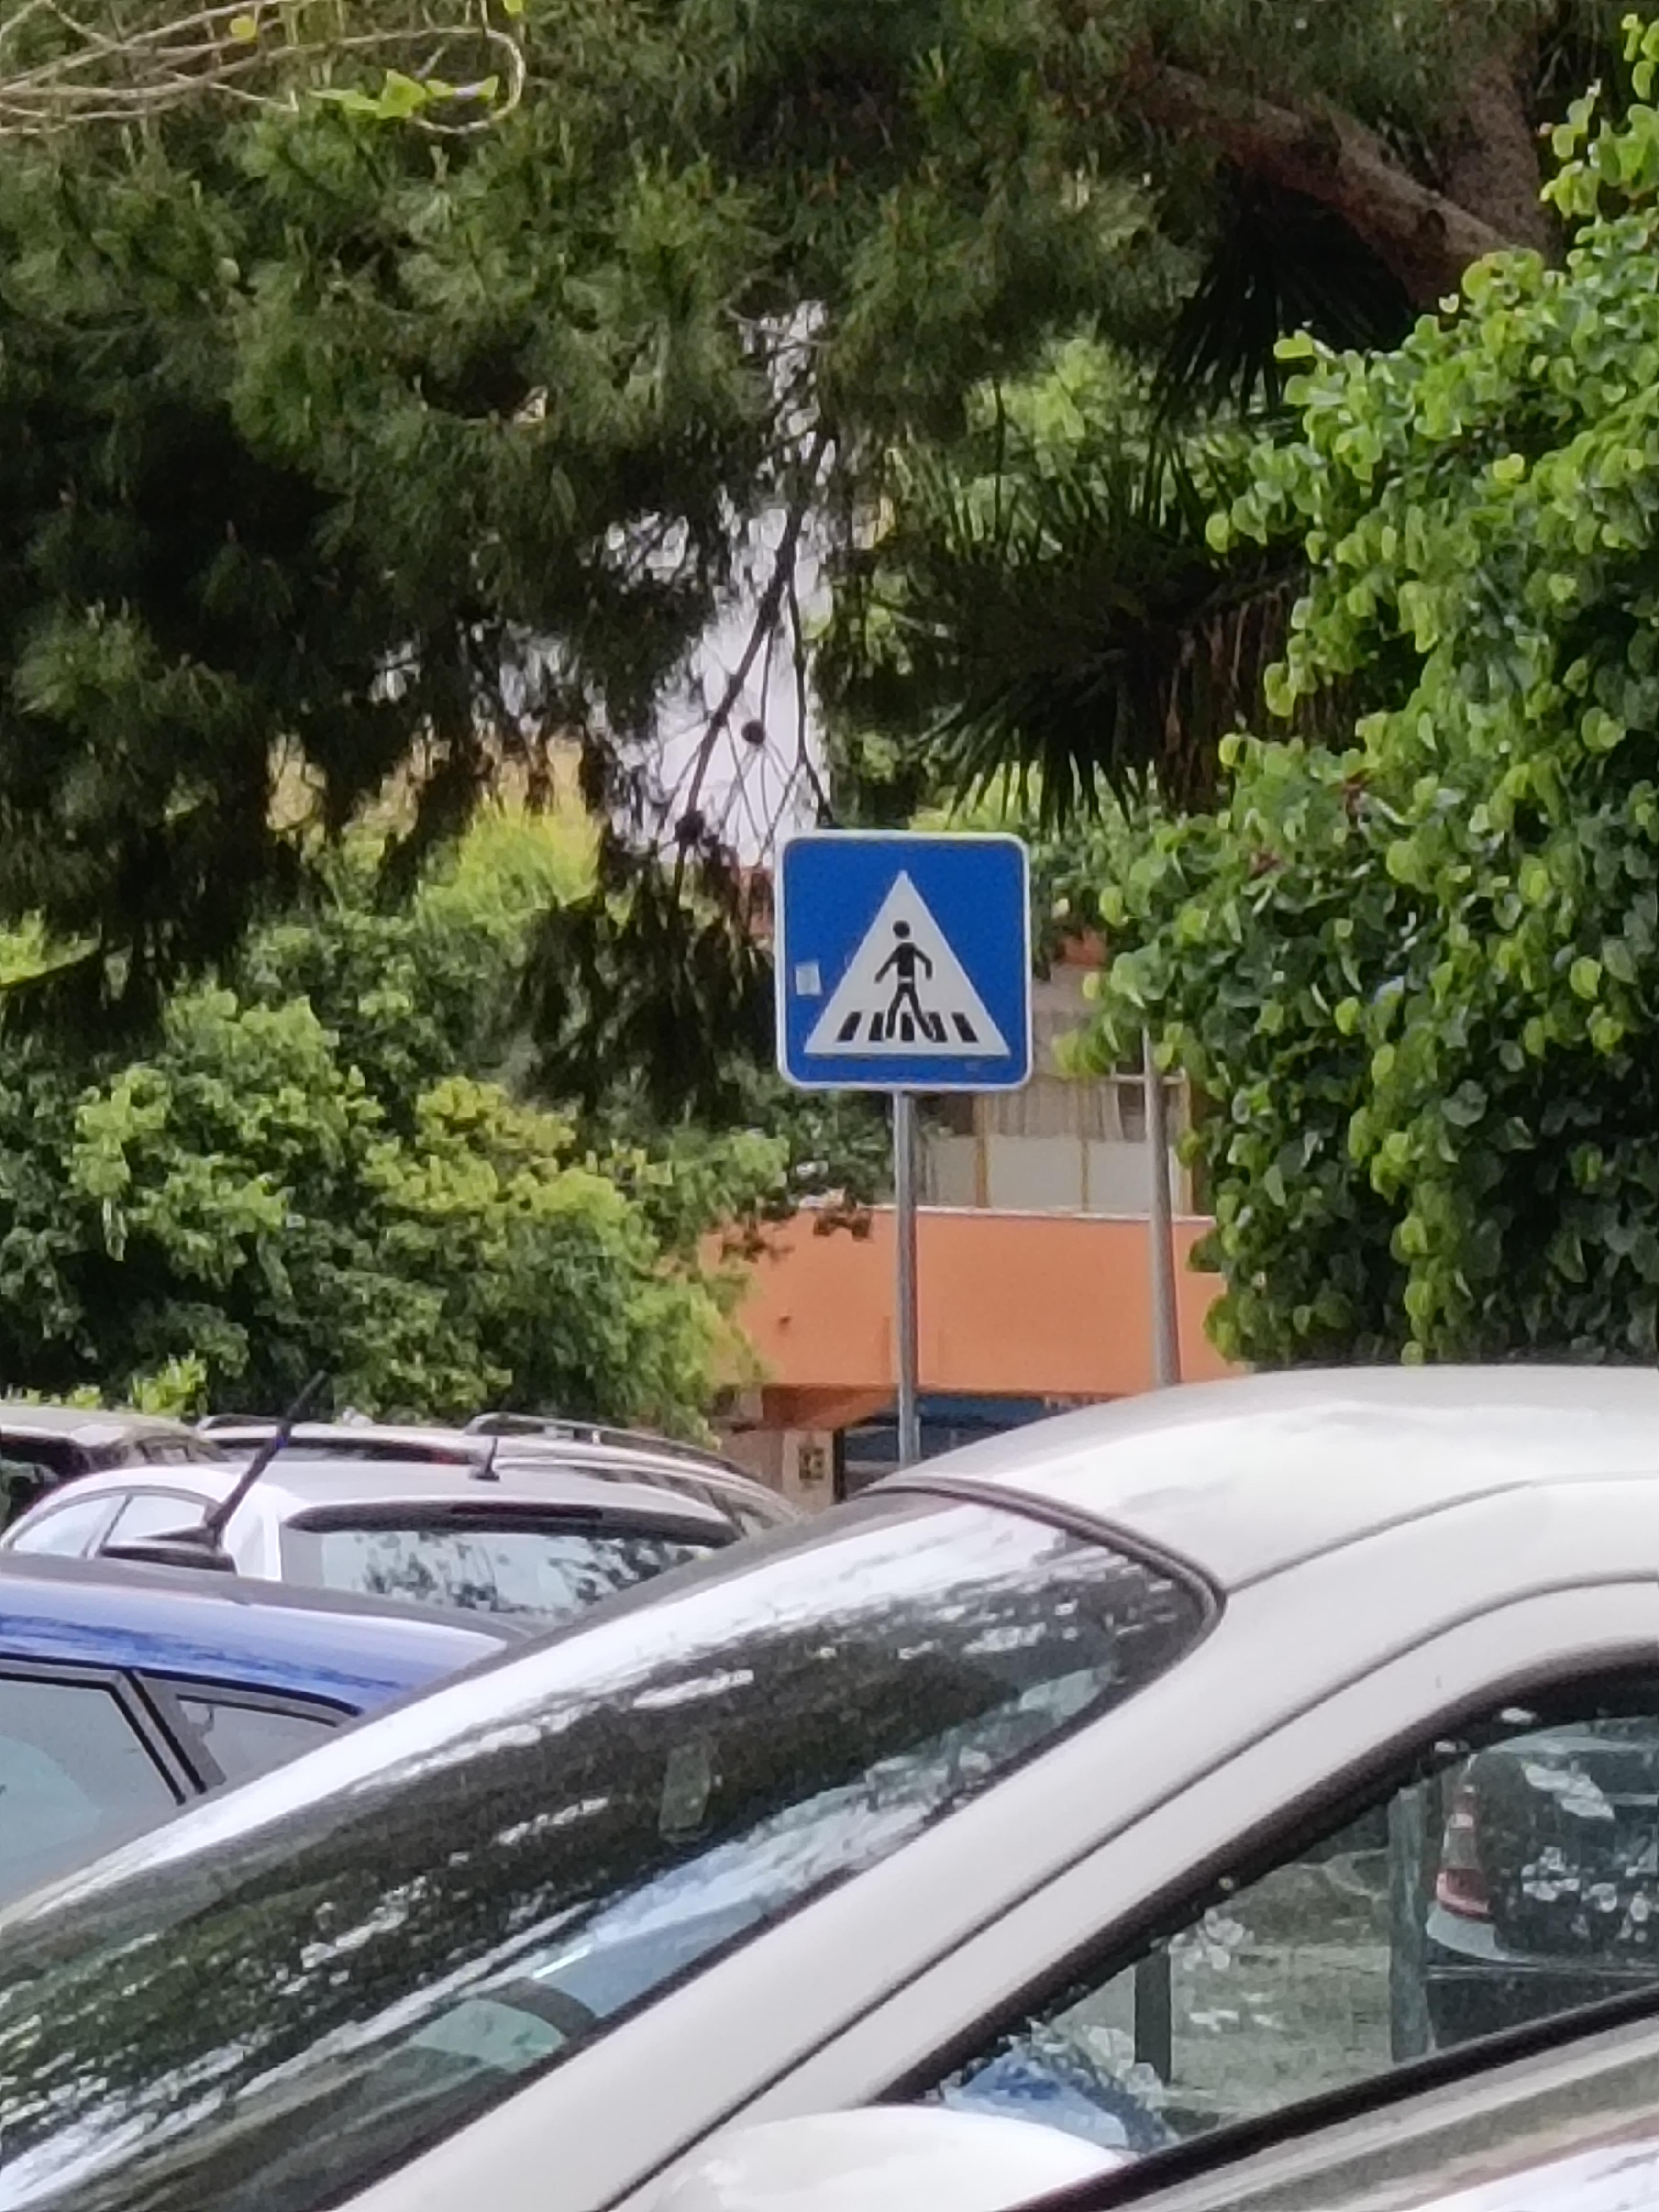Passagem para peoes: (761, 837, 1048, 1095)
